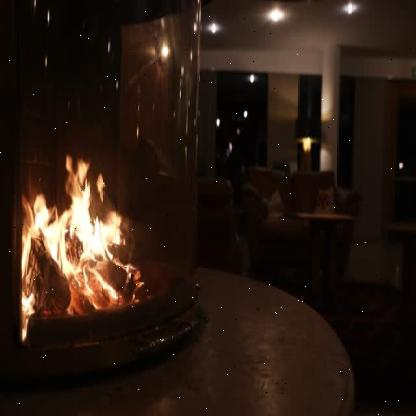fire: (16, 146, 138, 312)
